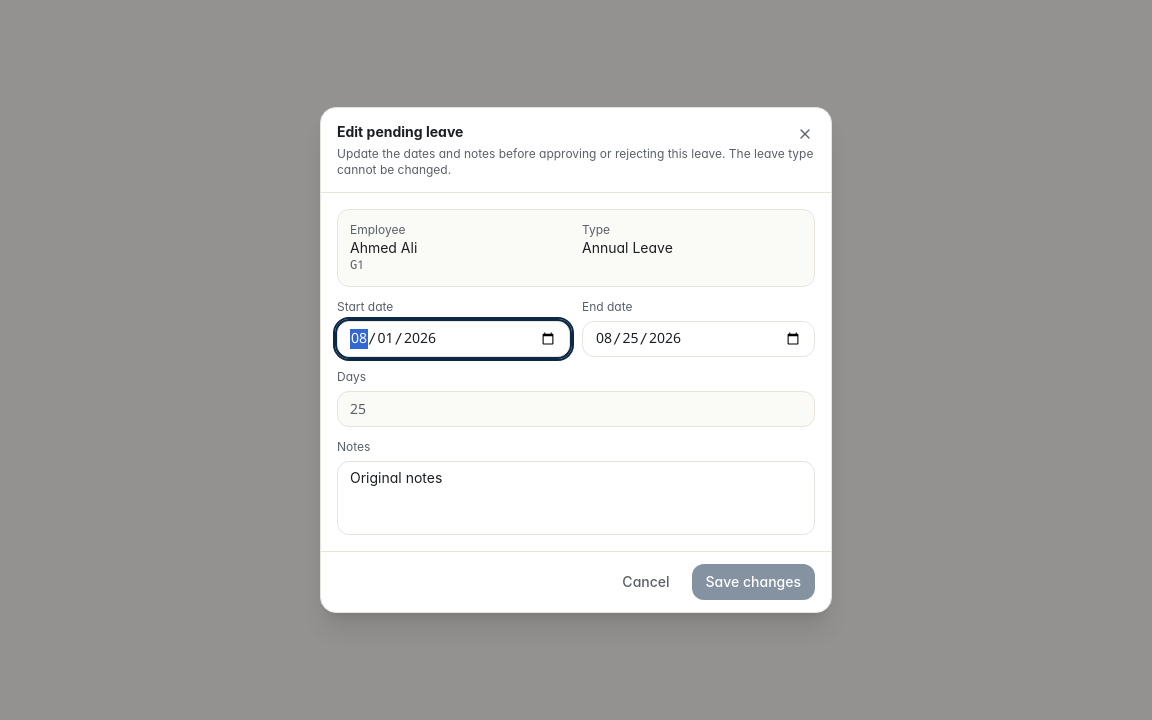
Test case: EditLeaveDialog › requires both dates and does not submit cleared dates
Clear the date field labelled "Start date": (454, 339) [337,321,570,357]
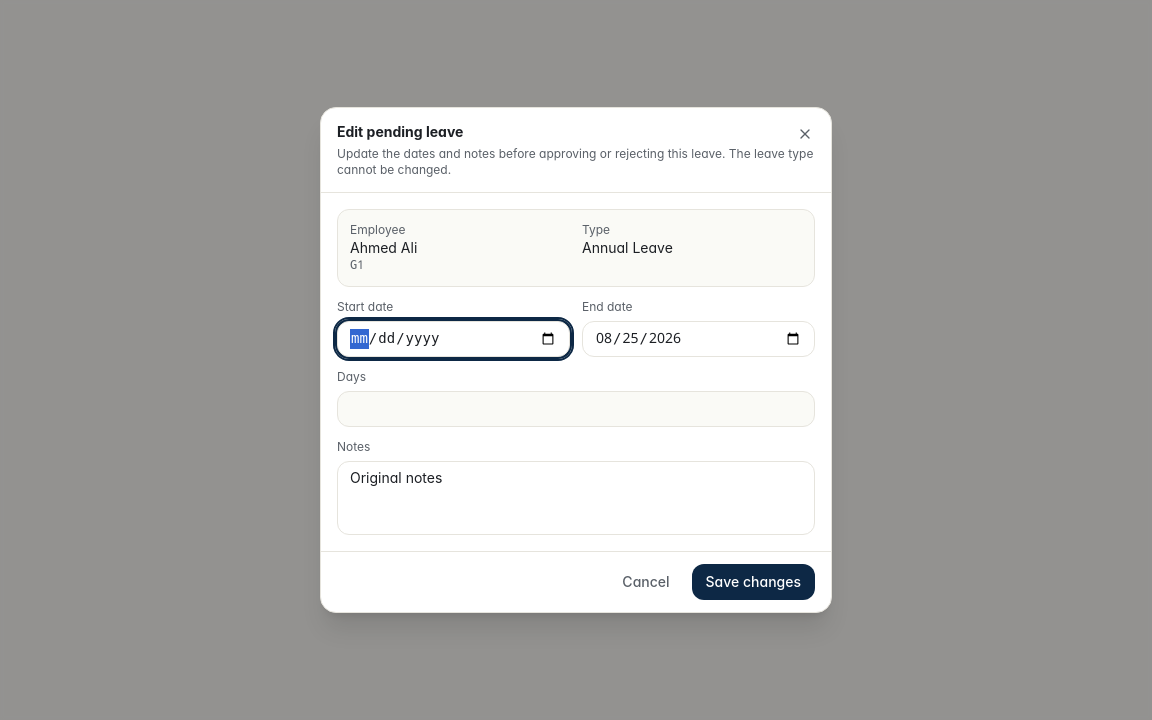
Click the button "Save changes": (753, 582) [692,564,815,600]
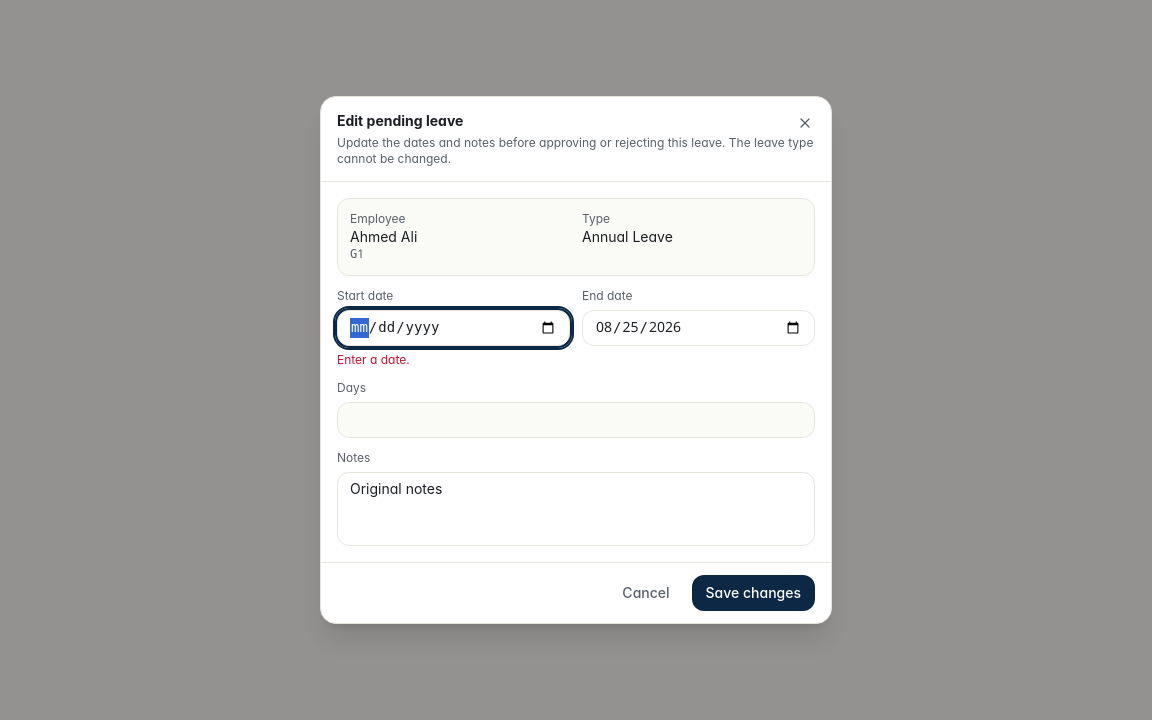
Result: the message reads "Enter a date." at [337,352,410,367]
